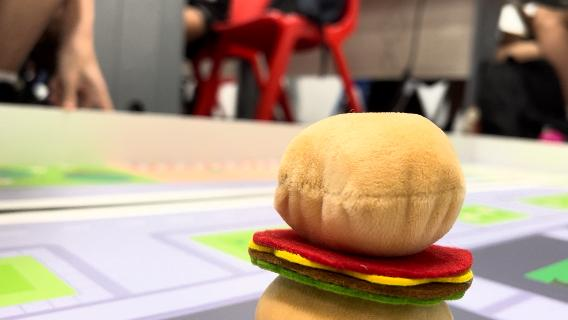burger: (248, 112, 476, 320)
